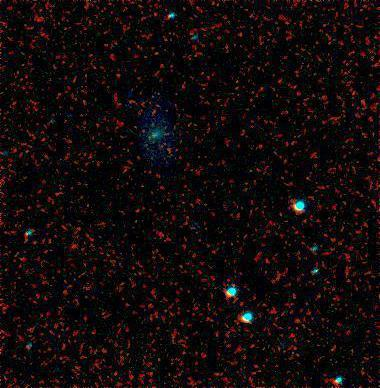star: (103, 61, 133, 91)
